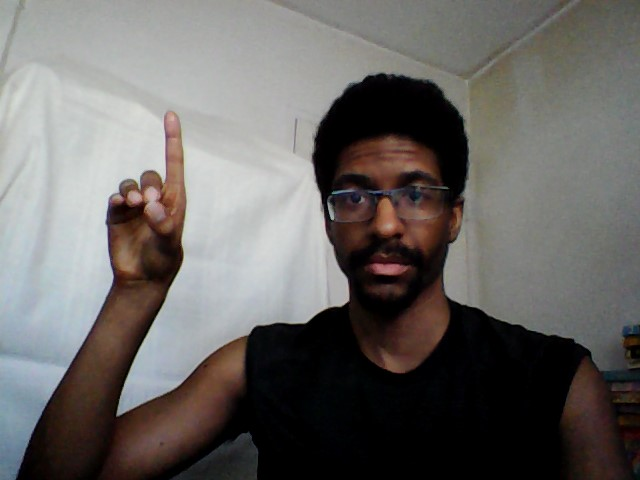d: (101, 103, 190, 290)
